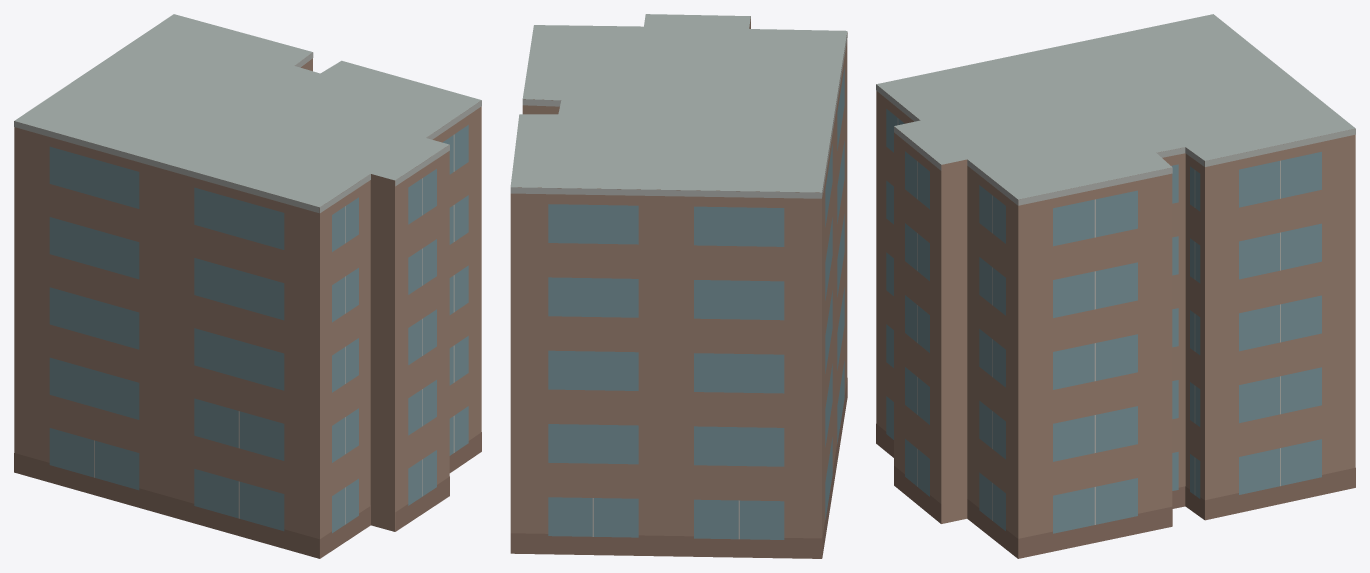
File: survey-upis-32840619.glb
3 views of the same model, side by side, from view 1: azimuth 30°, elevation 25°; view 2: azimuth 150°, elevation 25°; view 3: azimuth 270°, elevation 25° (orthographic). The views are drawn at different scales.
Parts seen in each view (by area): view 1: survey-upis-32840619.tmp; view 2: survey-upis-32840619.tmp; view 3: survey-upis-32840619.tmp.
Boxes of the visible parts, x1,y1,x2,y2 form: survey-upis-32840619.tmp: (14, 14, 481, 558); survey-upis-32840619.tmp: (510, 14, 847, 558); survey-upis-32840619.tmp: (876, 14, 1355, 558).
Size of the model in its own units: 15.74 by 14.2 by 17.19.
